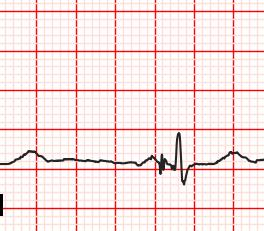Poor R Progression: (172, 132, 185, 171)
ST Depression: (169, 161, 193, 187)
